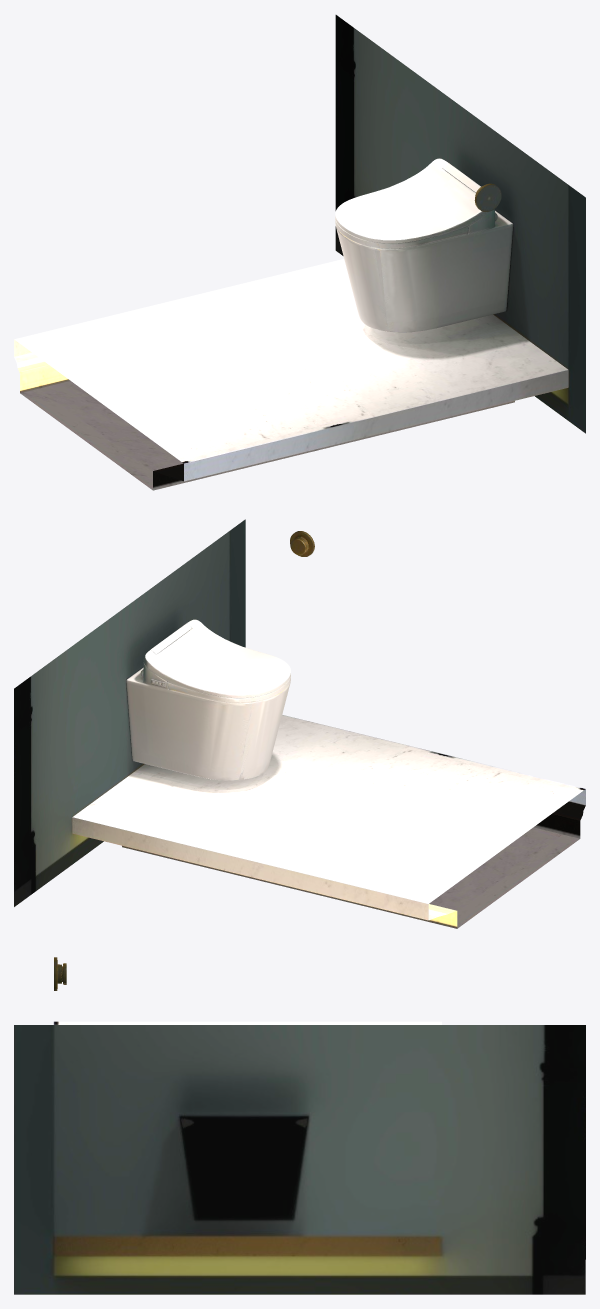
File: E_Clenz_WC_final.glb
3 renders of one model, top to bottom at view 1: azimuth 30°, elevation 25°; view 2: azimuth 150°, elevation 25°; view 3: azimuth 270°, elevation 25°, orthographic. The views are drawn at different scales.
Visible parts, largest first — view 1: E_Clenz_WC_final; view 2: E_Clenz_WC_final; view 3: E_Clenz_WC_final.
Part boxes in pixels (bbox=[...]): E_Clenz_WC_final: bbox=[14, 15, 585, 490]; E_Clenz_WC_final: bbox=[14, 519, 585, 928]; E_Clenz_WC_final: bbox=[14, 957, 585, 1294].
Size of the model in its own units: 1.66 by 1.02 by 1.81.
Materials: 1 (1 with a texture image).
